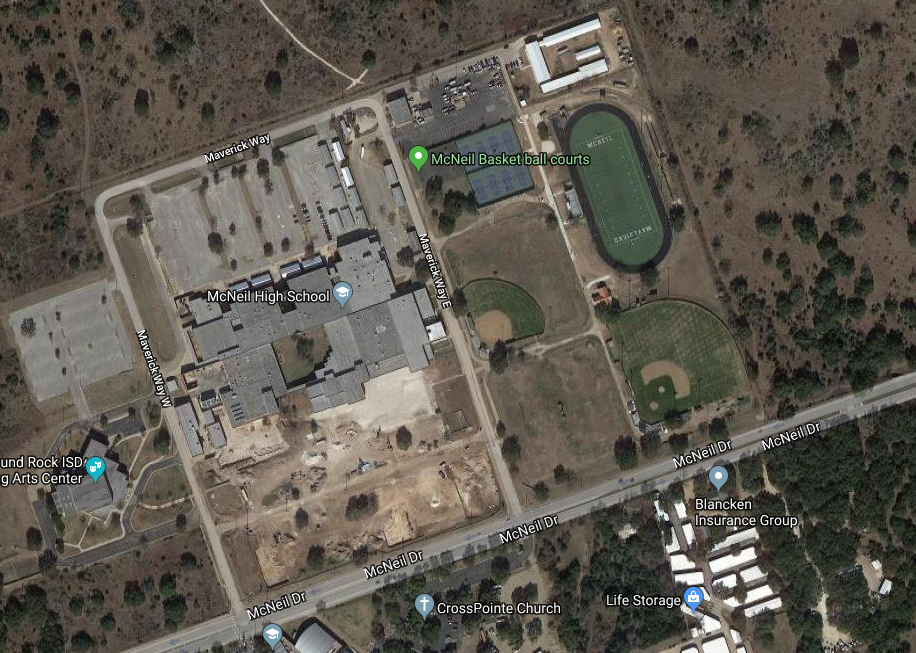baseball: (607, 298, 757, 428), (438, 263, 550, 364)
football: (552, 93, 682, 271)
